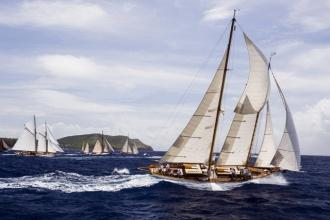fanchuan: (139, 11, 300, 182), (8, 114, 67, 159), (119, 134, 143, 156), (94, 134, 114, 160), (81, 142, 92, 160)
